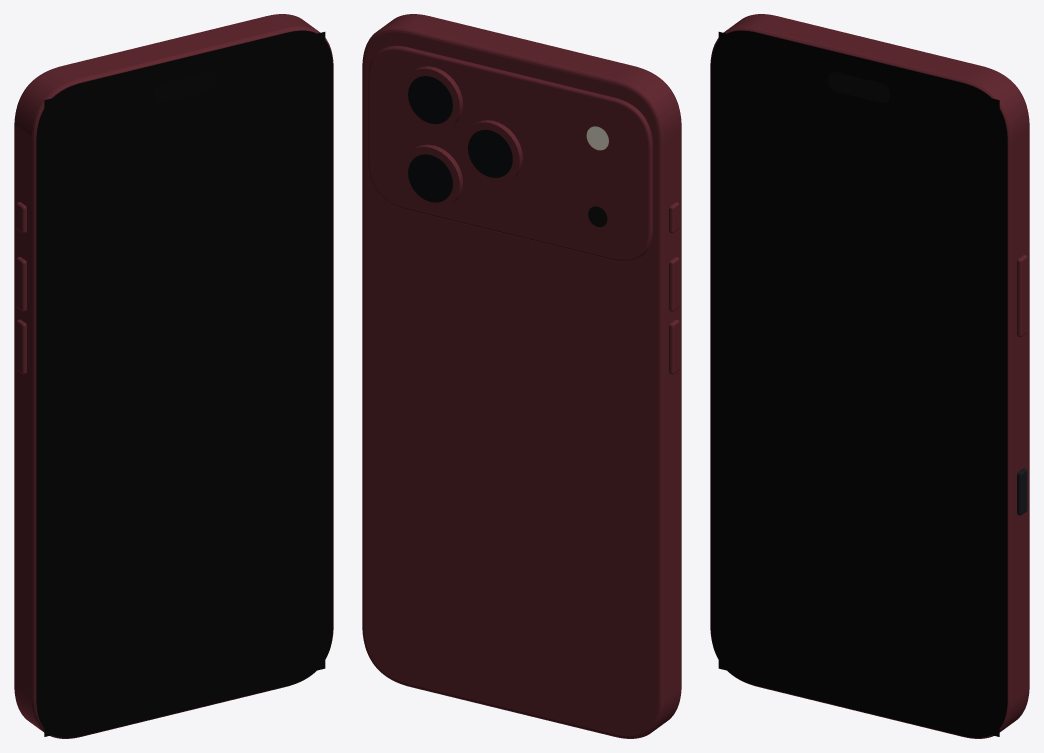
Rendered from iphone-18-pro-burgundy.glb.
3 views of the same model, side by side, from view 1: azimuth 30°, elevation 25°; view 2: azimuth 150°, elevation 25°; view 3: azimuth 330°, elevation 25° (orthographic).
Parts seen in each view (by area): view 1: Screen, iPhone 18 Pro; view 2: iPhone 18 Pro; view 3: Screen, iPhone 18 Pro.
Part boxes in pixels (box(x1,y1,x2,y2)): Screen: box(44, 32, 325, 736); iPhone 18 Pro: box(14, 14, 333, 738); iPhone 18 Pro: box(362, 14, 681, 738); Screen: box(718, 32, 999, 736); iPhone 18 Pro: box(710, 14, 1029, 738).
Bounding box in the file's own units: 0.0738 × 0.15 × 0.0114.
